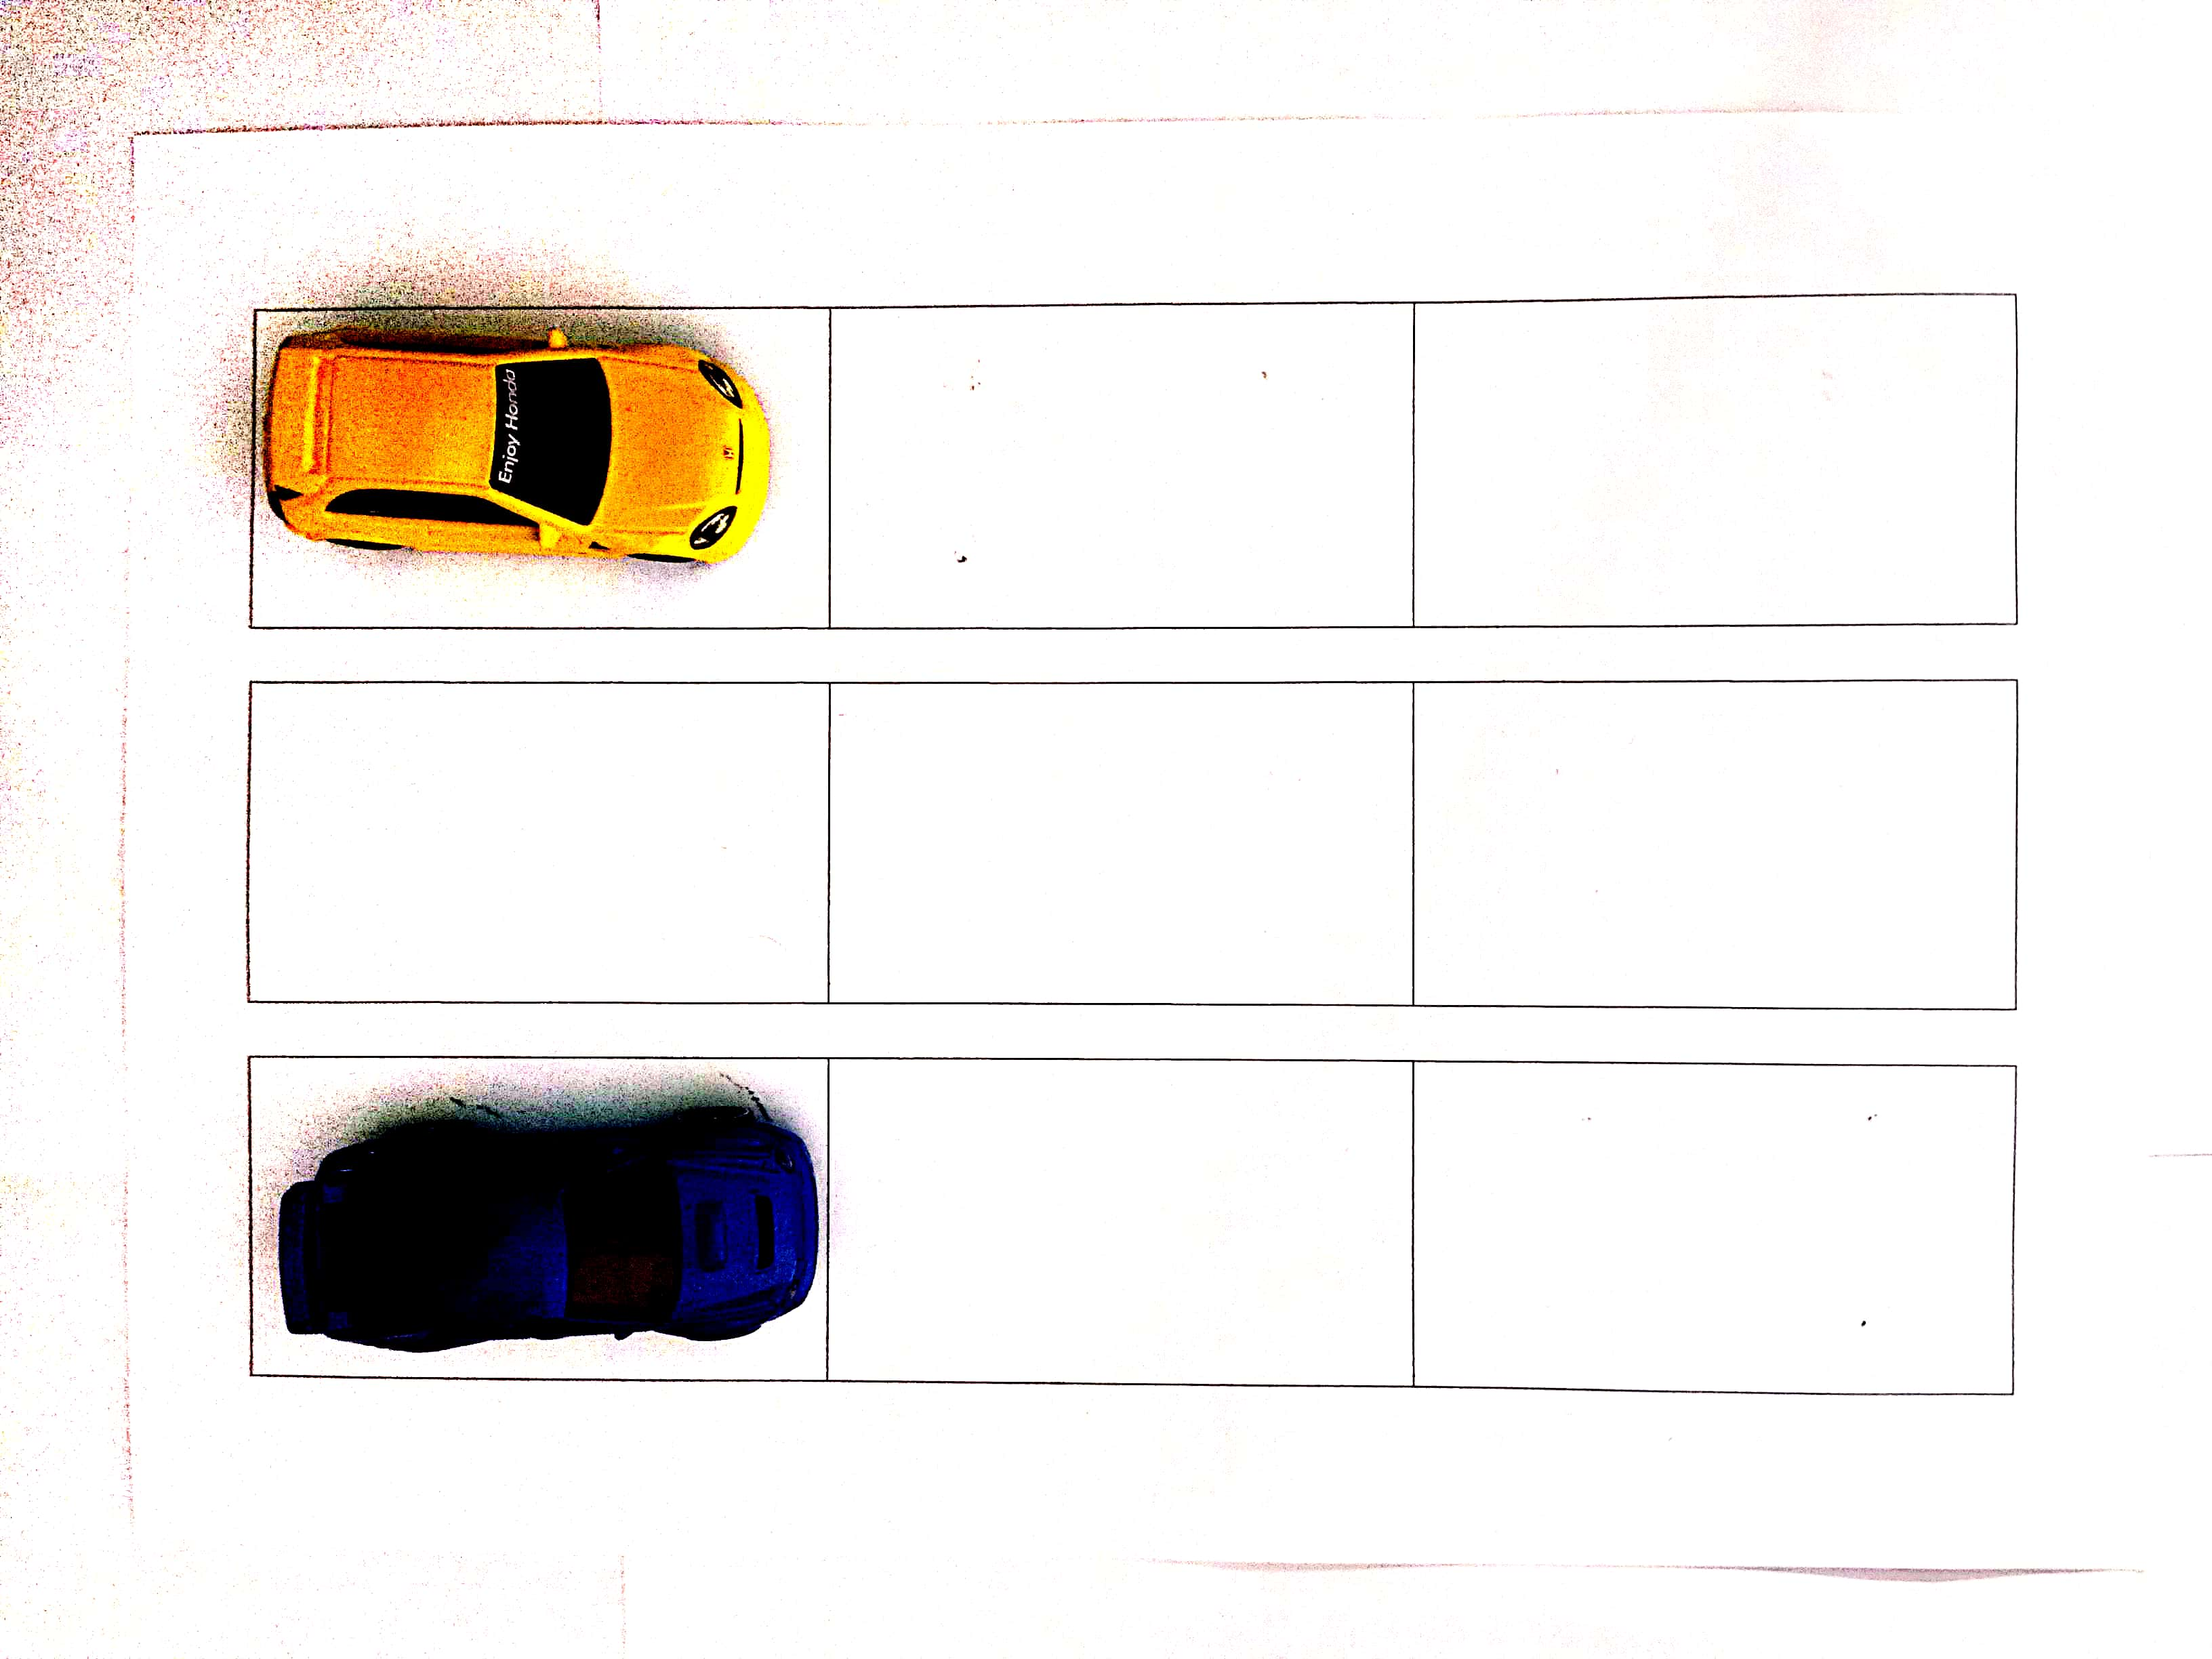Busy: (253, 1053, 827, 1377), (254, 303, 833, 620)
Free: (1409, 289, 2012, 626), (1413, 1065, 2012, 1391), (1414, 680, 2013, 1000), (827, 1053, 1413, 1377), (834, 301, 1409, 629), (827, 680, 1413, 995), (249, 687, 829, 992)
